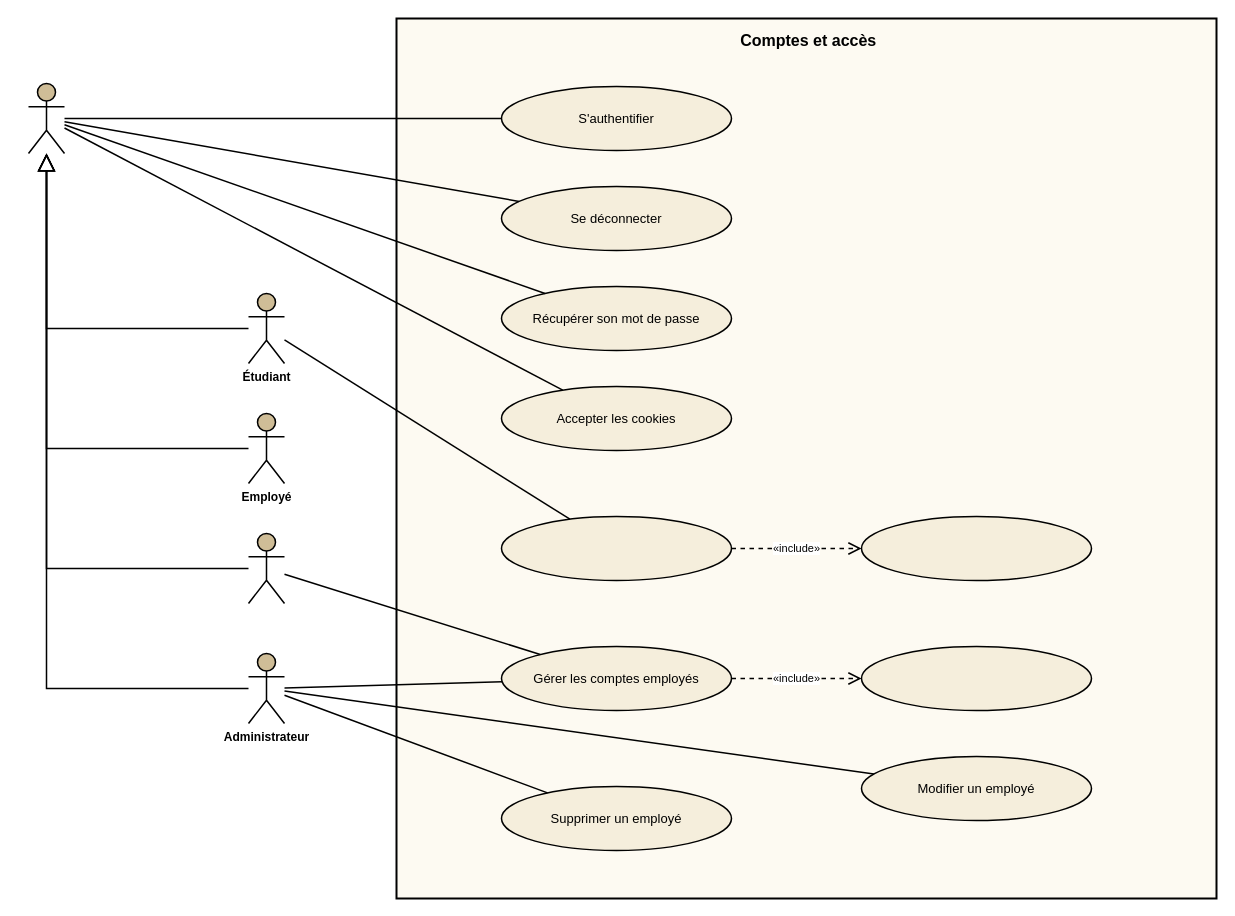
Some shapes in this 1235 by 916 pixel diagram are drawn without their labels. Here are the shapes that lost their labels. From the top down, the centre of each, then its label:
(x=46, y=118): Utilisateur
(x=266, y=568): Gérant
(x=616, y=548): S'inscrire
(x=976, y=548): Vérifier le format du mot de passe
(x=976, y=678): Créer un employé
